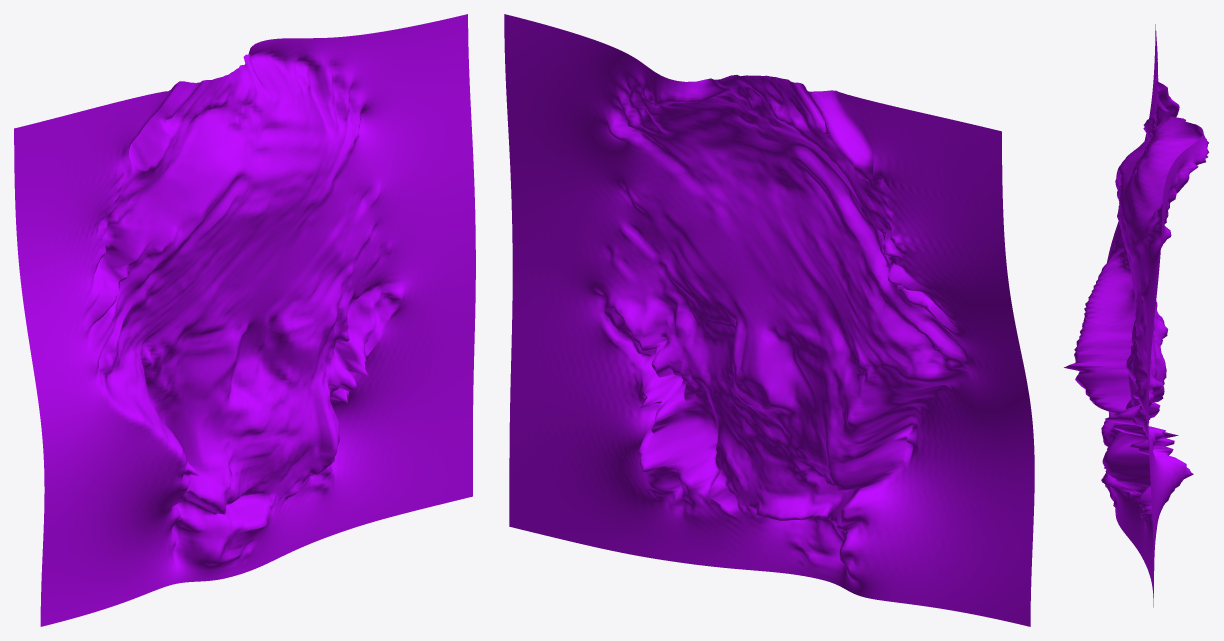
The model's file is igea_SFL.glb.
3 views of the same model, side by side, from view 1: azimuth 30°, elevation 25°; view 2: azimuth 150°, elevation 25°; view 3: azimuth 270°, elevation 25° (orthographic). The views are drawn at different scales.
Visible parts, largest first — view 1: igea-60kf_without_shading; view 2: igea-60kf_without_shading; view 3: igea-60kf_without_shading.
Boxes of the visible parts, left/top/right/bottom form: igea-60kf_without_shading: left=14, top=14, right=475, bottom=626; igea-60kf_without_shading: left=504, top=14, right=1034, bottom=626; igea-60kf_without_shading: left=1064, top=24, right=1209, bottom=607.
Bounding box in the file's own units: 1.25 × 1.25 × 0.3959.
